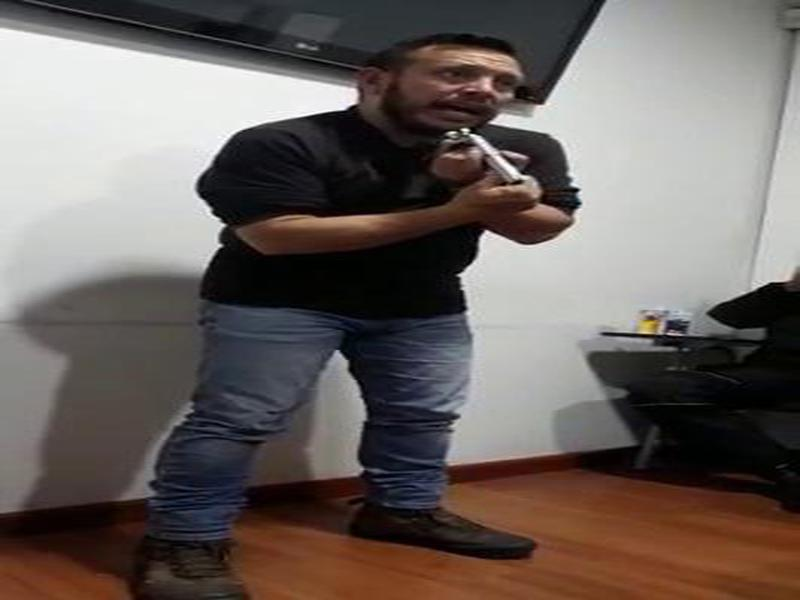Revolver: (420, 119, 549, 229)
